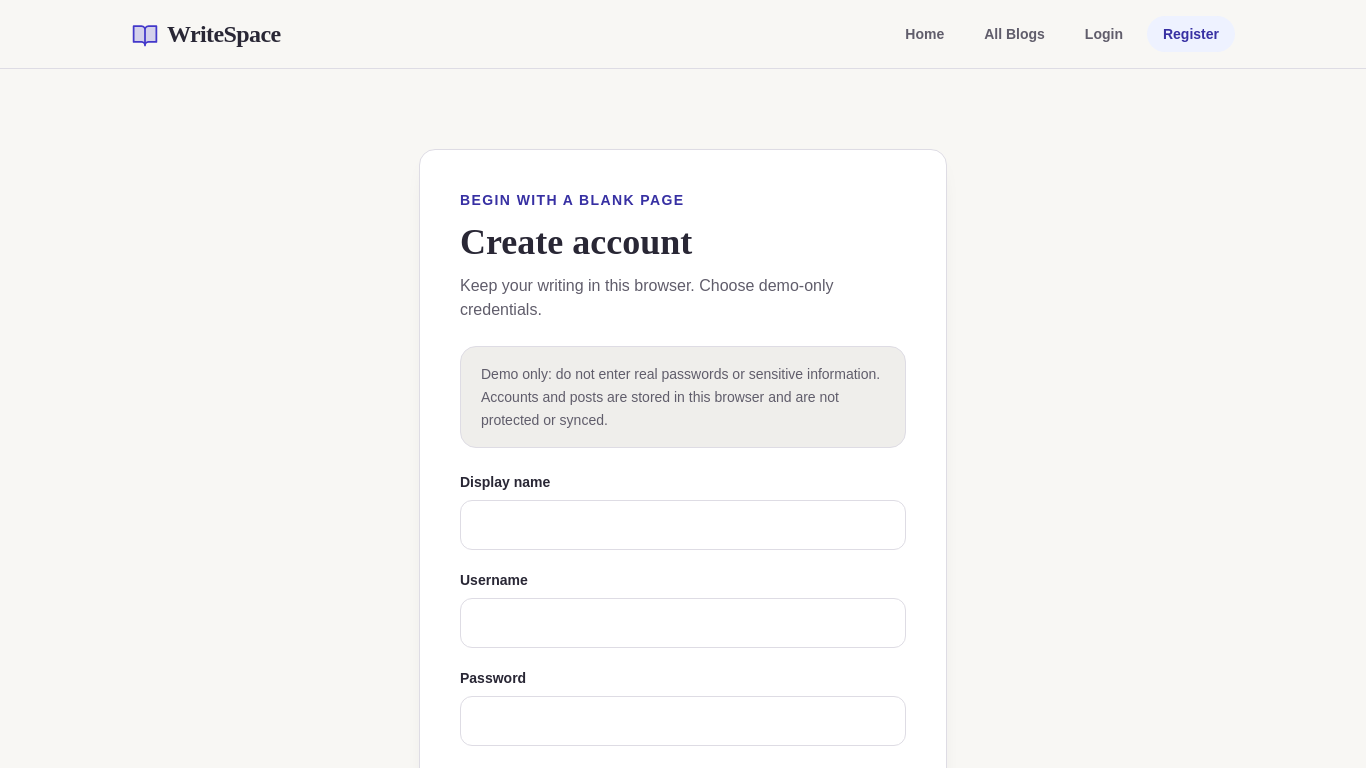
Test: identity forms and shell interactions › shows normalized duplicate registration without saving or navigating
Type " Robin Writer " into the field labelled "Display name" at (683, 525), box [460,500,906,550]
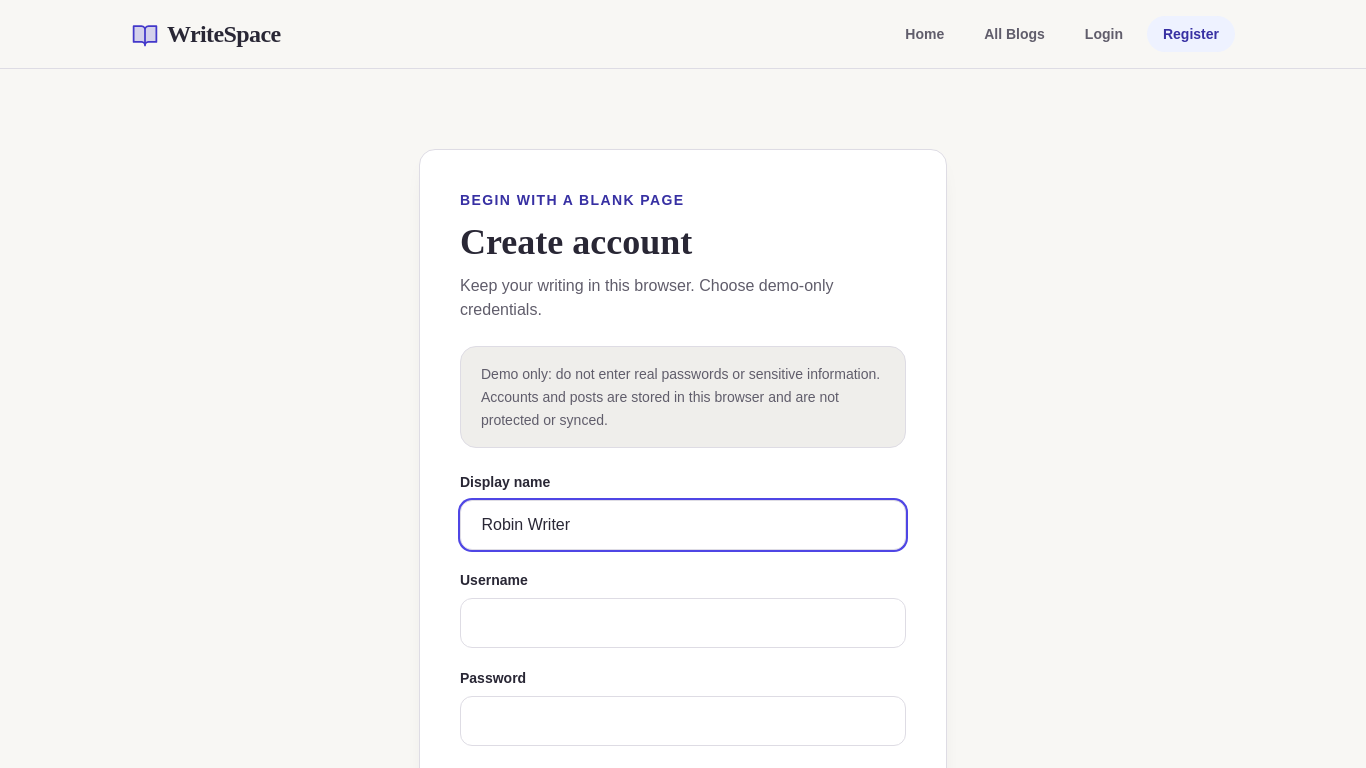
Type " JAMIE " into the field labelled "Username" at (683, 623), box [460,598,906,648]
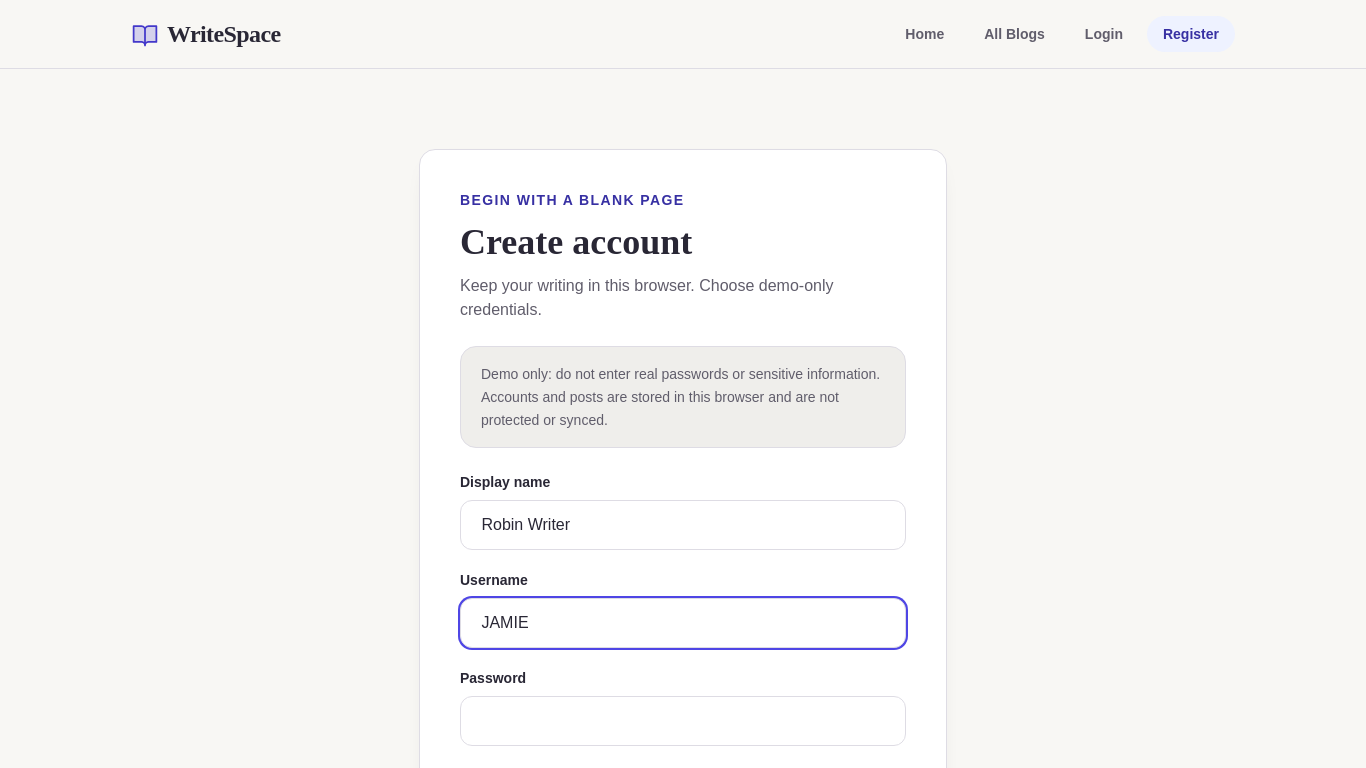
Type " demo " into the password field labelled "Password" at (683, 721), box [460,696,906,746]
(page scrolled)
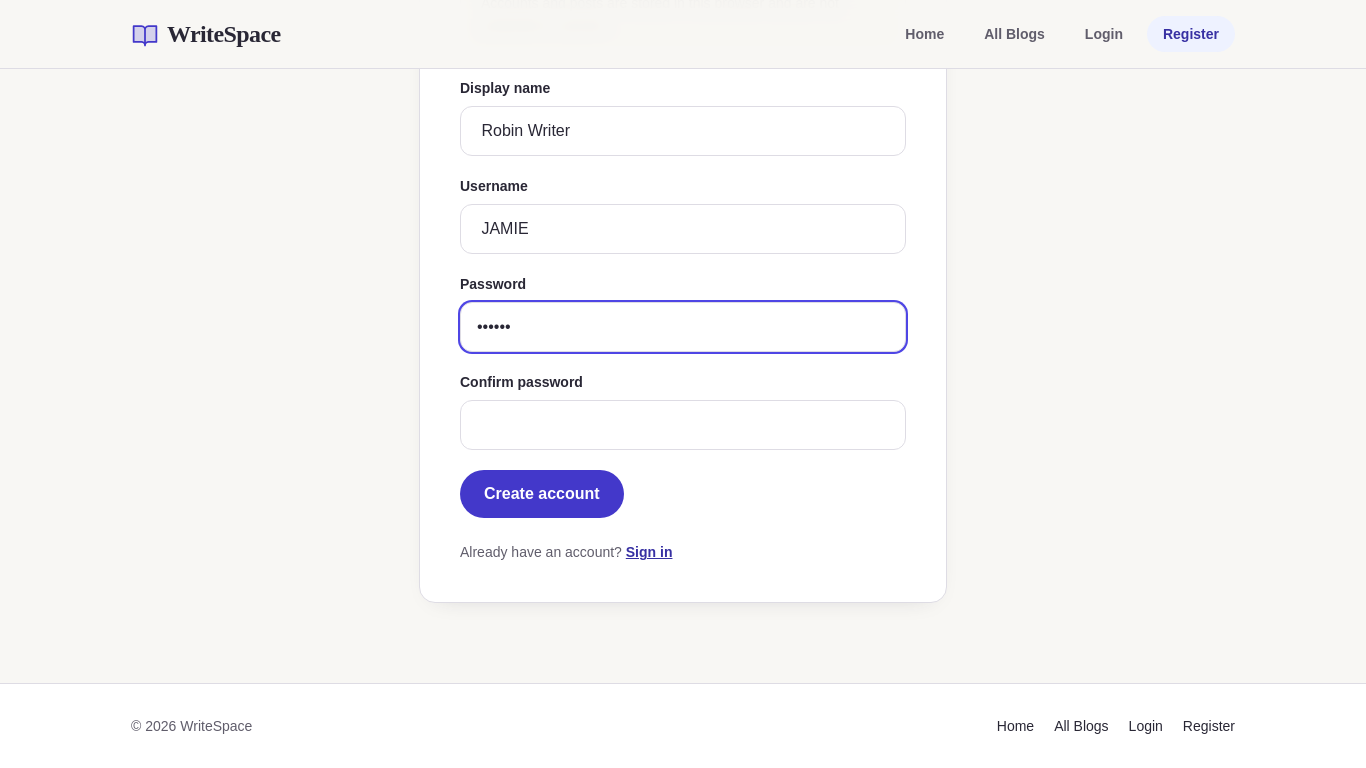
Type " demo " into the password field labelled "Confirm password" at (683, 425), box [460,400,906,450]
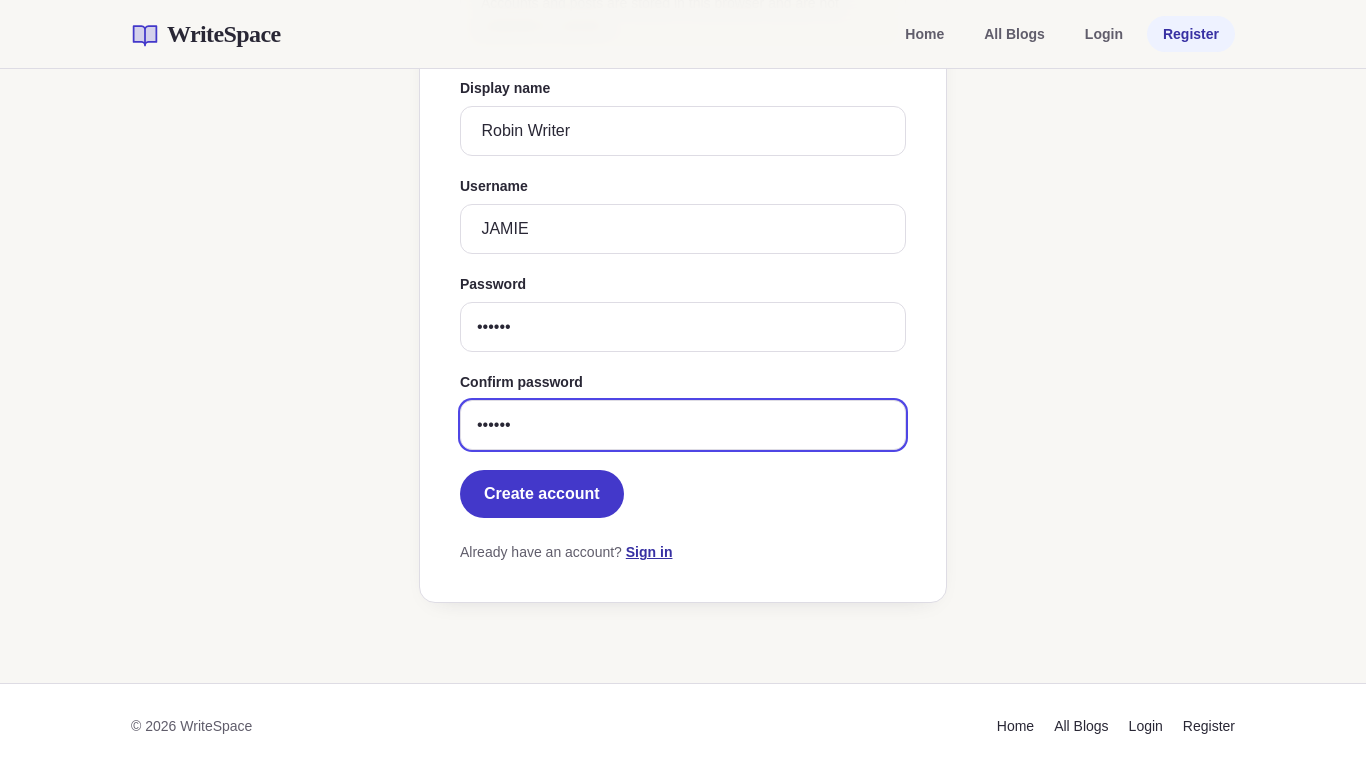
Click the button "Create account" at (542, 494), box [460,470,624,518]
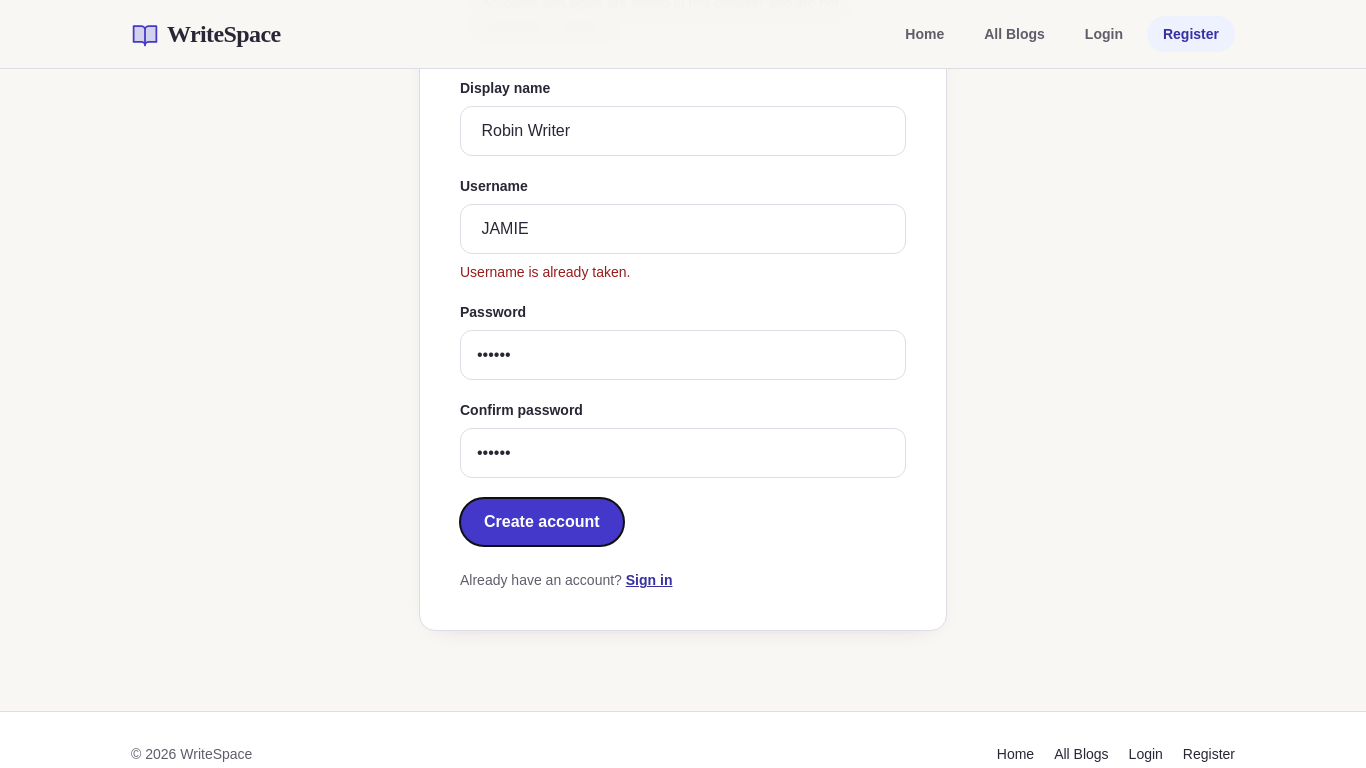
Expected: the message reads "Username is already taken.", [460,264,630,280]
